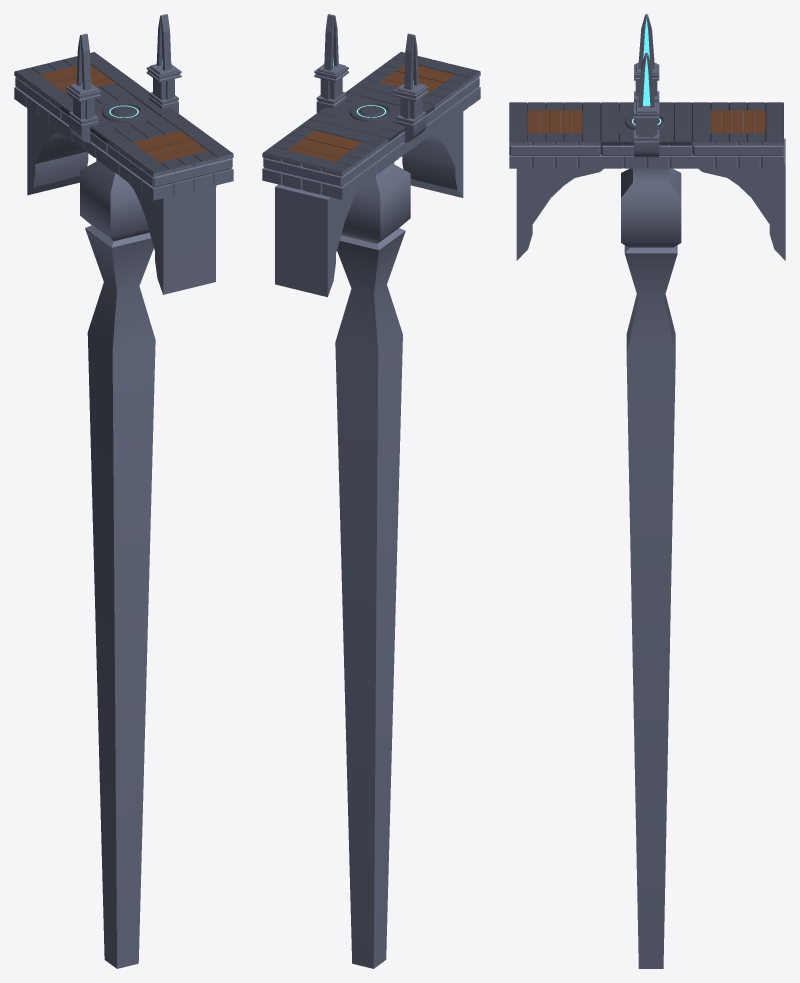
File: bridge.fbx
3 views of the same model, side by side, from view 1: azimuth 30°, elevation 25°; view 2: azimuth 150°, elevation 25°; view 3: azimuth 270°, elevation 25° (orthographic).
Visible parts, largest first — view 1: Bridge, Cube.133, Cube.005, Cube.108, Cube.138, Cube.107, Cube.137, Cube.131, Cube.130, Cube.122, Cube.125, Cylinder.015 (+5 smaller); view 2: Bridge, Cube.133, Cube.108, Cube.005, Cube.138, Cube.107, Cube.137, Cube.128, Cube.127, Cube.125, Cube.122, Cylinder.015 (+5 smaller); view 3: Bridge, Cube.133, Cube.005, Cube.108, Cube.107, Cube.137, Cube.122, Cube.125, Cube.128, Cube.131, Cube.124, Cube.138 (+4 smaller).
Part boxes in pixels (x1,y1,x2,y2): Bridge: [80, 159, 216, 968]; Cube.133: [27, 109, 88, 195]; Cube.005: [107, 119, 232, 173]; Cube.108: [14, 52, 140, 105]; Cube.138: [66, 33, 101, 142]; Cube.107: [61, 86, 186, 139]; Cube.137: [146, 14, 181, 113]; Cube.131: [107, 154, 233, 200]; Cube.130: [108, 145, 232, 187]; Cube.122: [133, 130, 207, 162]; Cube.125: [40, 64, 114, 94]; Cylinder.015: [102, 102, 145, 122]; Bridge: [335, 112, 463, 968]; Cube.133: [275, 184, 362, 297]; Cube.108: [262, 119, 387, 172]; Cube.005: [355, 52, 480, 105]; Cube.138: [394, 33, 428, 142]; Cube.107: [309, 85, 434, 139]; Cube.137: [314, 14, 348, 112]; Cube.128: [262, 154, 388, 199]; Cube.127: [263, 144, 387, 186]; Cube.125: [288, 130, 362, 161]; Cube.122: [380, 64, 454, 94]; Cylinder.015: [349, 101, 393, 122]; Bridge: [516, 168, 681, 968]; Cube.133: [698, 138, 785, 260]; Cube.005: [509, 102, 600, 141]; Cube.108: [692, 102, 783, 141]; Cube.107: [600, 102, 692, 141]; Cube.137: [634, 52, 659, 157]; Cube.122: [527, 110, 582, 133]; Cube.125: [711, 110, 765, 133]; Cube.128: [692, 154, 783, 168]; Cube.131: [509, 155, 600, 168]; Cube.124: [600, 154, 692, 168]; Cube.138: [634, 14, 659, 102].
Bounding box in the file's own units: 255 × 2238 × 604.
